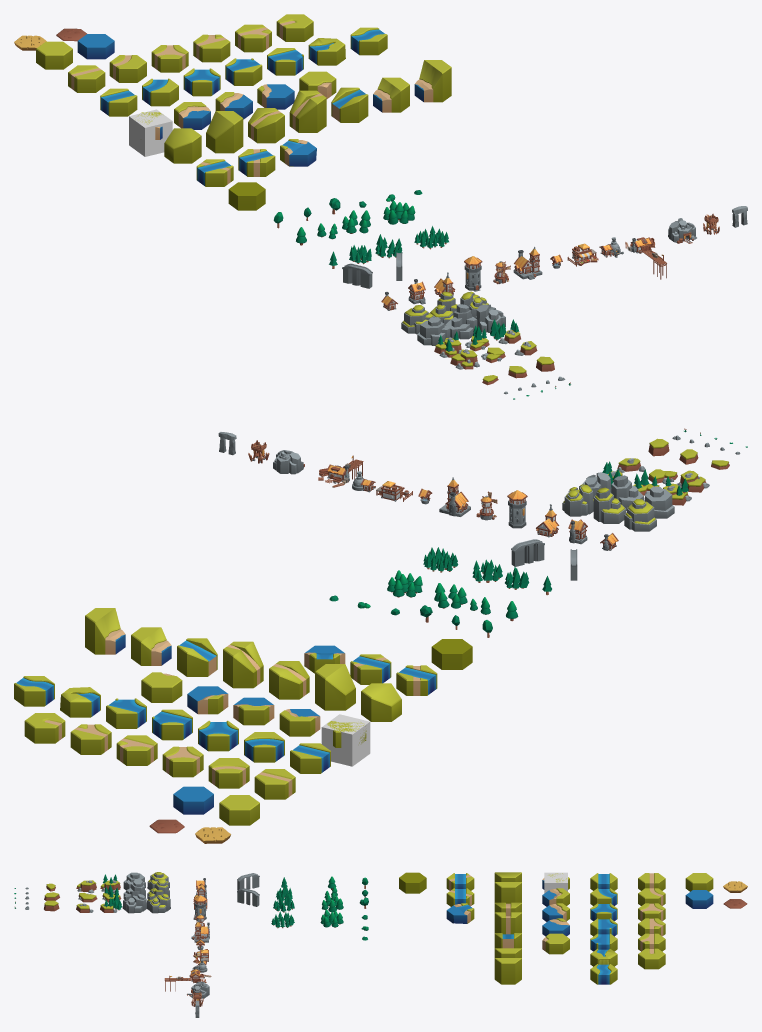
Rendered from hex-terrain.glb.
3 renders of one model, top to bottom at view 1: azimuth 30°, elevation 25°; view 2: azimuth 150°, elevation 25°; view 3: azimuth 270°, elevation 25°, orthographic. The views are drawn at different scales.
Visible parts, largest first — view 1: Cube, hex_grass_sloped_high, hex_road_A_sloped_high, coast_slope_high, hex_grass_sloped_low, river_slope_low, hex_road_A_sloped_low, coast_slope_low, hex_grass_bottom, hex_river_A, hex_road_E, hex_river_A_curvy (+23 smaller); view 2: Cube, hex_road_A_sloped_high, hex_grass_sloped_high, coast_slope_high, hex_road_A_sloped_low, hex_grass_sloped_low, river_slope_low, coast_slope_low, hex_grass_bottom, hex_road_D, hex_road_B, hex_road_A (+26 smaller); view 3: coast_slope_high, hex_road_A_sloped_high, hex_grass_sloped_high, hex_grass_bottom, hex_road_M, hex_coast_E, hex_river_A_curvy, river_coast, hex_water, mountain_C_grass, hex_grass, mountain_C (+29 smaller).
Boxes of the visible parts, box(x1,y1,x2,y2) form: Cube: box(129, 109, 172, 156); hex_grass_sloped_high: box(206, 111, 243, 153); hex_road_A_sloped_high: box(289, 90, 326, 132); coast_slope_high: box(414, 60, 451, 102); hex_grass_sloped_low: box(164, 128, 201, 163); river_slope_low: box(331, 87, 368, 122); hex_road_A_sloped_low: box(248, 108, 284, 143); coast_slope_low: box(373, 77, 409, 112); hex_grass_bottom: box(228, 182, 265, 210); hex_river_A: box(100, 88, 137, 116); hex_road_E: box(193, 34, 230, 62); hex_river_A_curvy: box(350, 27, 387, 55); Cube: box(321, 714, 370, 766); hex_road_A_sloped_high: box(223, 641, 263, 688); hex_grass_sloped_high: box(315, 664, 355, 710); coast_slope_high: box(85, 608, 125, 654); hex_road_A_sloped_low: box(269, 661, 309, 699); hex_grass_sloped_low: box(361, 683, 401, 721); river_slope_low: box(177, 638, 217, 676); coast_slope_low: box(131, 627, 171, 665); hex_grass_bottom: box(431, 639, 472, 669); hex_road_D: box(162, 746, 203, 777); hex_road_B: box(208, 758, 249, 788); hex_road_A: box(254, 769, 295, 799); coast_slope_high: box(494, 958, 521, 984); hex_road_A_sloped_high: box(494, 912, 521, 934); hex_grass_sloped_high: box(494, 882, 521, 903); hex_grass_bottom: box(399, 872, 426, 893); hex_road_M: box(638, 948, 665, 969); hex_coast_E: box(542, 933, 569, 954); hex_river_A_curvy: box(590, 964, 617, 984); river_coast: box(446, 903, 474, 923); hex_water: box(685, 890, 713, 908); mountain_C_grass: box(147, 890, 170, 913); hex_grass: box(685, 873, 713, 891); mountain_C: box(122, 891, 146, 913).
Size of the model in its own units: 26.56 by 3.19 by 61.4.
Materials: 5 (4 with a texture image).
